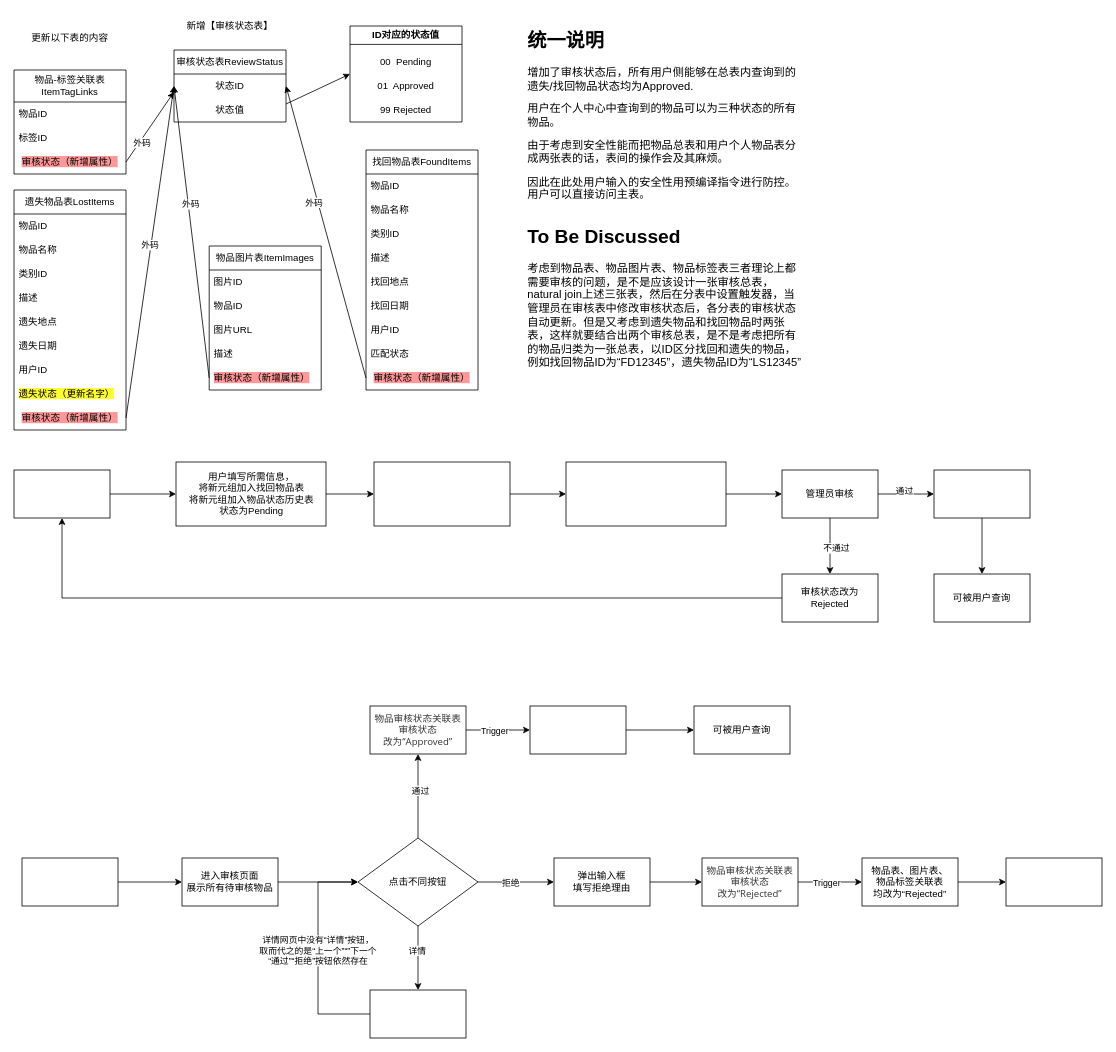
Image size: 1116x1052. Some labels were removed from this diagram. Each missing label, with the centre of its shape:
审核状态改为 Approved: point (981, 493)
审核管理员点击 “审核中心”按钮: point (69, 881)
物品表、图片表、 物品标签关联表 均改为“Approved”: point (577, 729)
用户发布寻物启事或找到的无主物品信息（先注册或登录）: point (61, 493)
用户添加图片 将一些新元组加入物品图片表 状态为Pending: point (441, 493)
用户选择标签 将一些新元组加入物品标签关联表 状态为Pending: point (645, 493)
返回发布用户侧修改 不可被所有用户查询: point (1053, 881)
进入详情网页: point (417, 1013)
